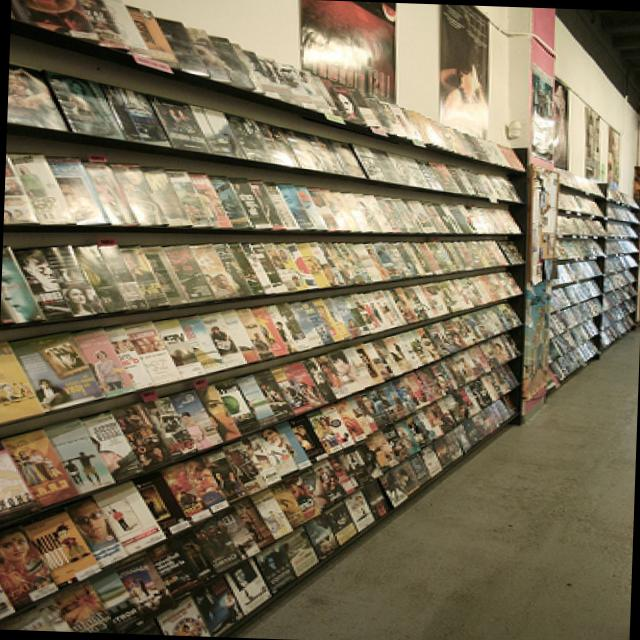ceiling beam: (559, 8, 640, 112)
floor -X: (0, 312, 640, 640)
poster crop: (441, 5, 493, 138), (534, 60, 572, 164)
poster occluded: (301, 0, 399, 101)
shelves crop: (0, 15, 640, 632)
videos: (1, 333, 524, 605), (4, 301, 523, 523), (20, 0, 523, 166), (8, 272, 524, 421), (15, 237, 529, 322), (19, 146, 522, 232), (560, 190, 605, 213), (560, 259, 603, 282)
